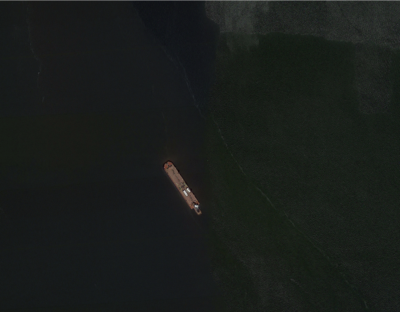boat: (164, 160, 203, 217)
